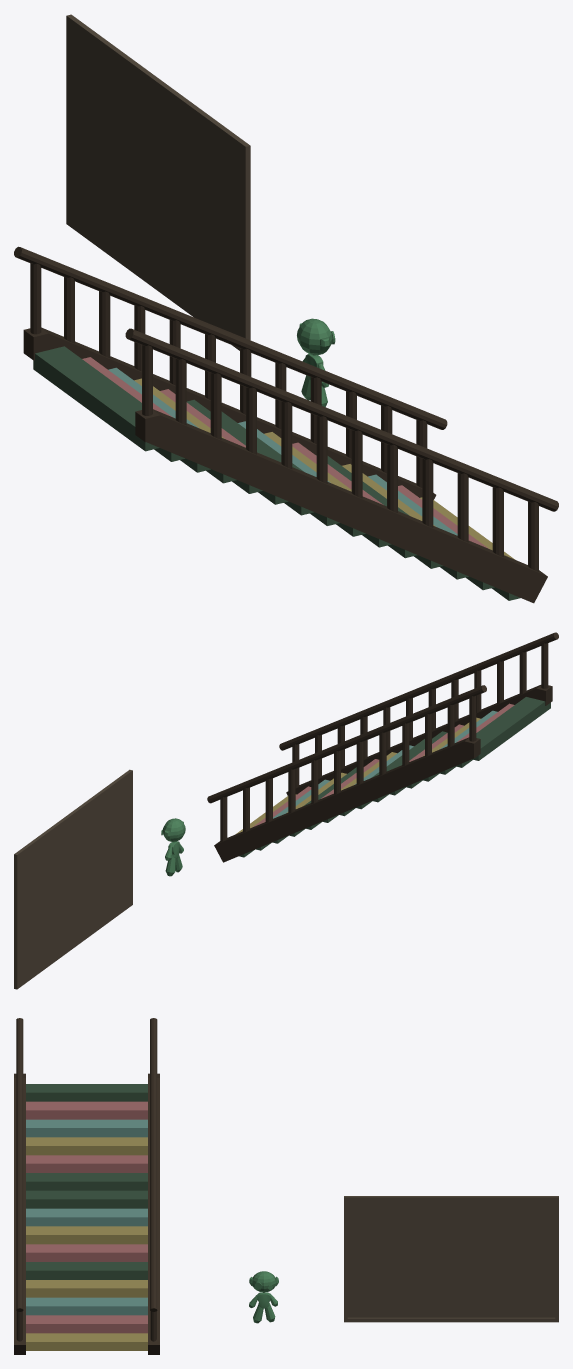
File: Bungalow_AssetsUVDONE_MatsFixed.fbx
3 views of the same model, one above another, from view 1: azimuth 30°, elevation 25°; view 2: azimuth 150°, elevation 25°; view 3: azimuth 270°, elevation 25° (orthographic). The views are drawn at different scales.
Visible parts, largest first — view 1: Stairs_DONE, Corkboard_DONE, VoodooDoll_DONE; view 2: Stairs_DONE, Corkboard_DONE, VoodooDoll_DONE; view 3: Stairs_DONE, Corkboard_DONE, VoodooDoll_DONE.
Part boxes in pixels (x1,y1,x2,y2): Stairs_DONE: (14, 246, 558, 603); Corkboard_DONE: (66, 14, 250, 350); VoodooDoll_DONE: (297, 318, 335, 406); Stairs_DONE: (207, 632, 558, 862); Corkboard_DONE: (14, 769, 132, 989); VoodooDoll_DONE: (161, 818, 185, 876); Stairs_DONE: (14, 1018, 159, 1354); Corkboard_DONE: (344, 1196, 558, 1322); VoodooDoll_DONE: (249, 1271, 278, 1323).
Size of the model in its own units: 16.42 by 13.41 by 30.01.
